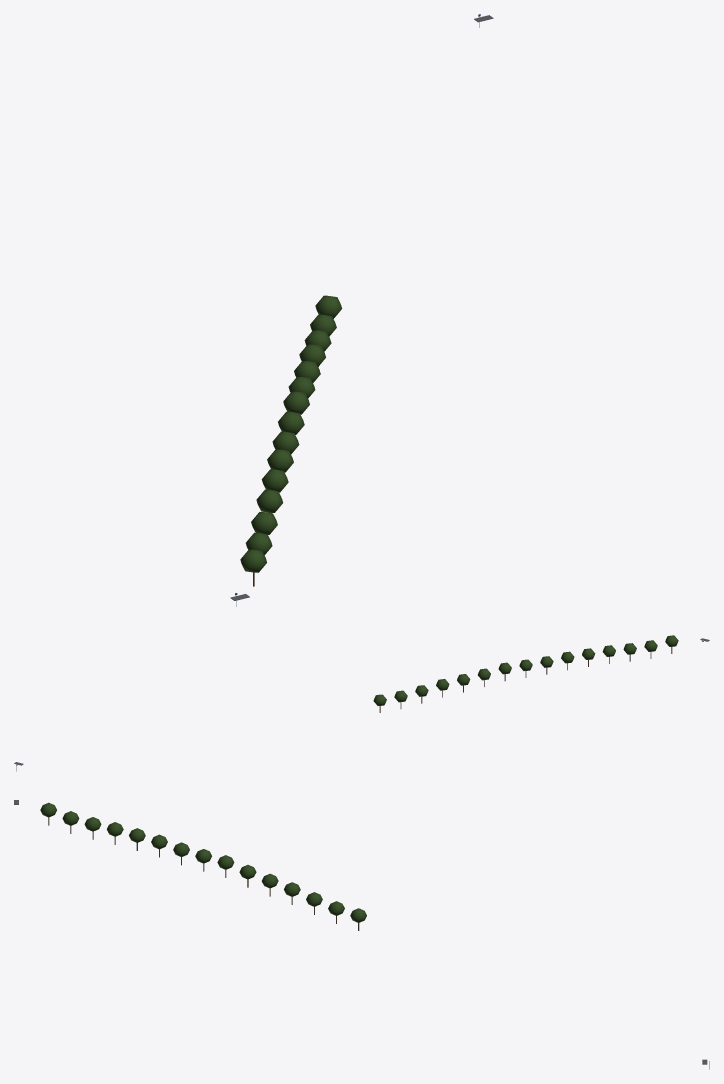
File: props.glb
3 renders of one model, top to bottom at view 1: azimuth 30°, elevation 25°; view 2: azimuth 150°, elevation 25°; view 3: azimuth 270°, elevation 25°, orthographic. The views are drawn at different scales.
Parts seen in each view (by area): view 1: T_E1_N2_props; view 2: T_E1_N2_props; view 3: T_E1_N2_props.
Boxes of the visible parts, x1,y1,x2,y2 form: T_E1_N2_props: [230, 14, 493, 606]; T_E1_N2_props: [14, 635, 709, 771]; T_E1_N2_props: [14, 800, 709, 1069].
Size of the model in its own units: 170 by 13.49 by 204.
